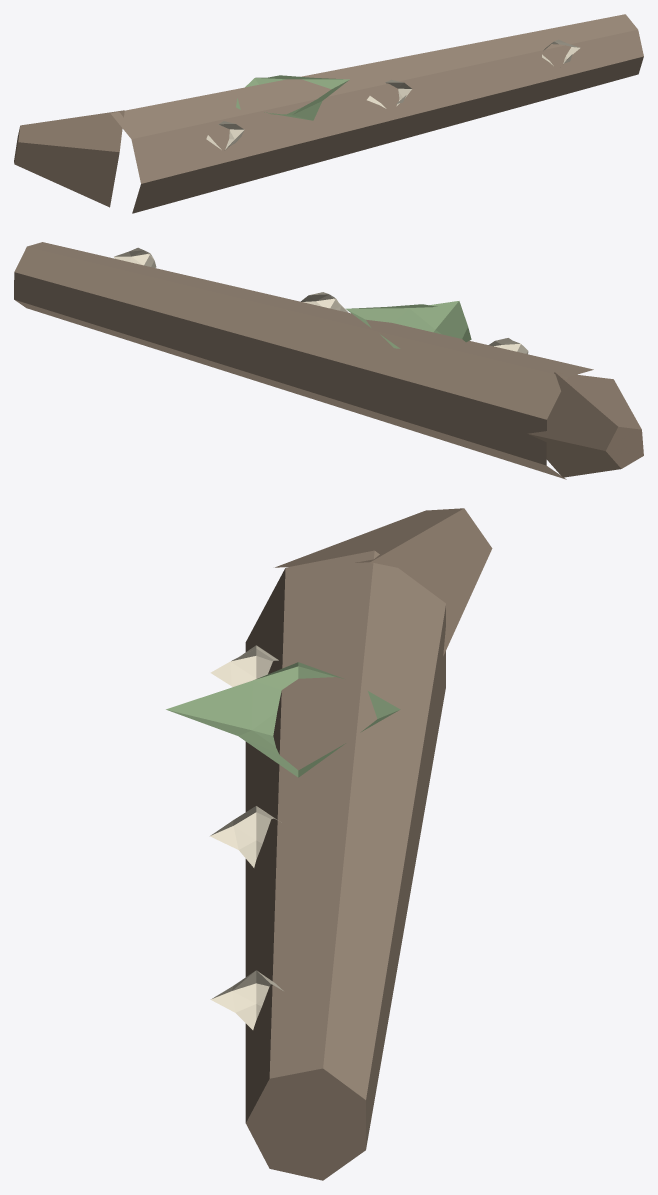
Rendered from log_v22.glb.
3 renders of one model, top to bottom at view 1: azimuth 30°, elevation 25°; view 2: azimuth 150°, elevation 25°; view 3: azimuth 270°, elevation 25°, orthographic. The views are drawn at different scales.
Visible parts, largest first — view 1: lod0; view 2: lod0; view 3: lod0.
Part boxes in pixels (x1,y1,x2,y2): lod0: (14,14,643,213); lod0: (14,242,643,479); lod0: (166,508,492,1180).
Size of what is drawn, in the model's own units: 3.59 by 0.6355 by 0.8678.
